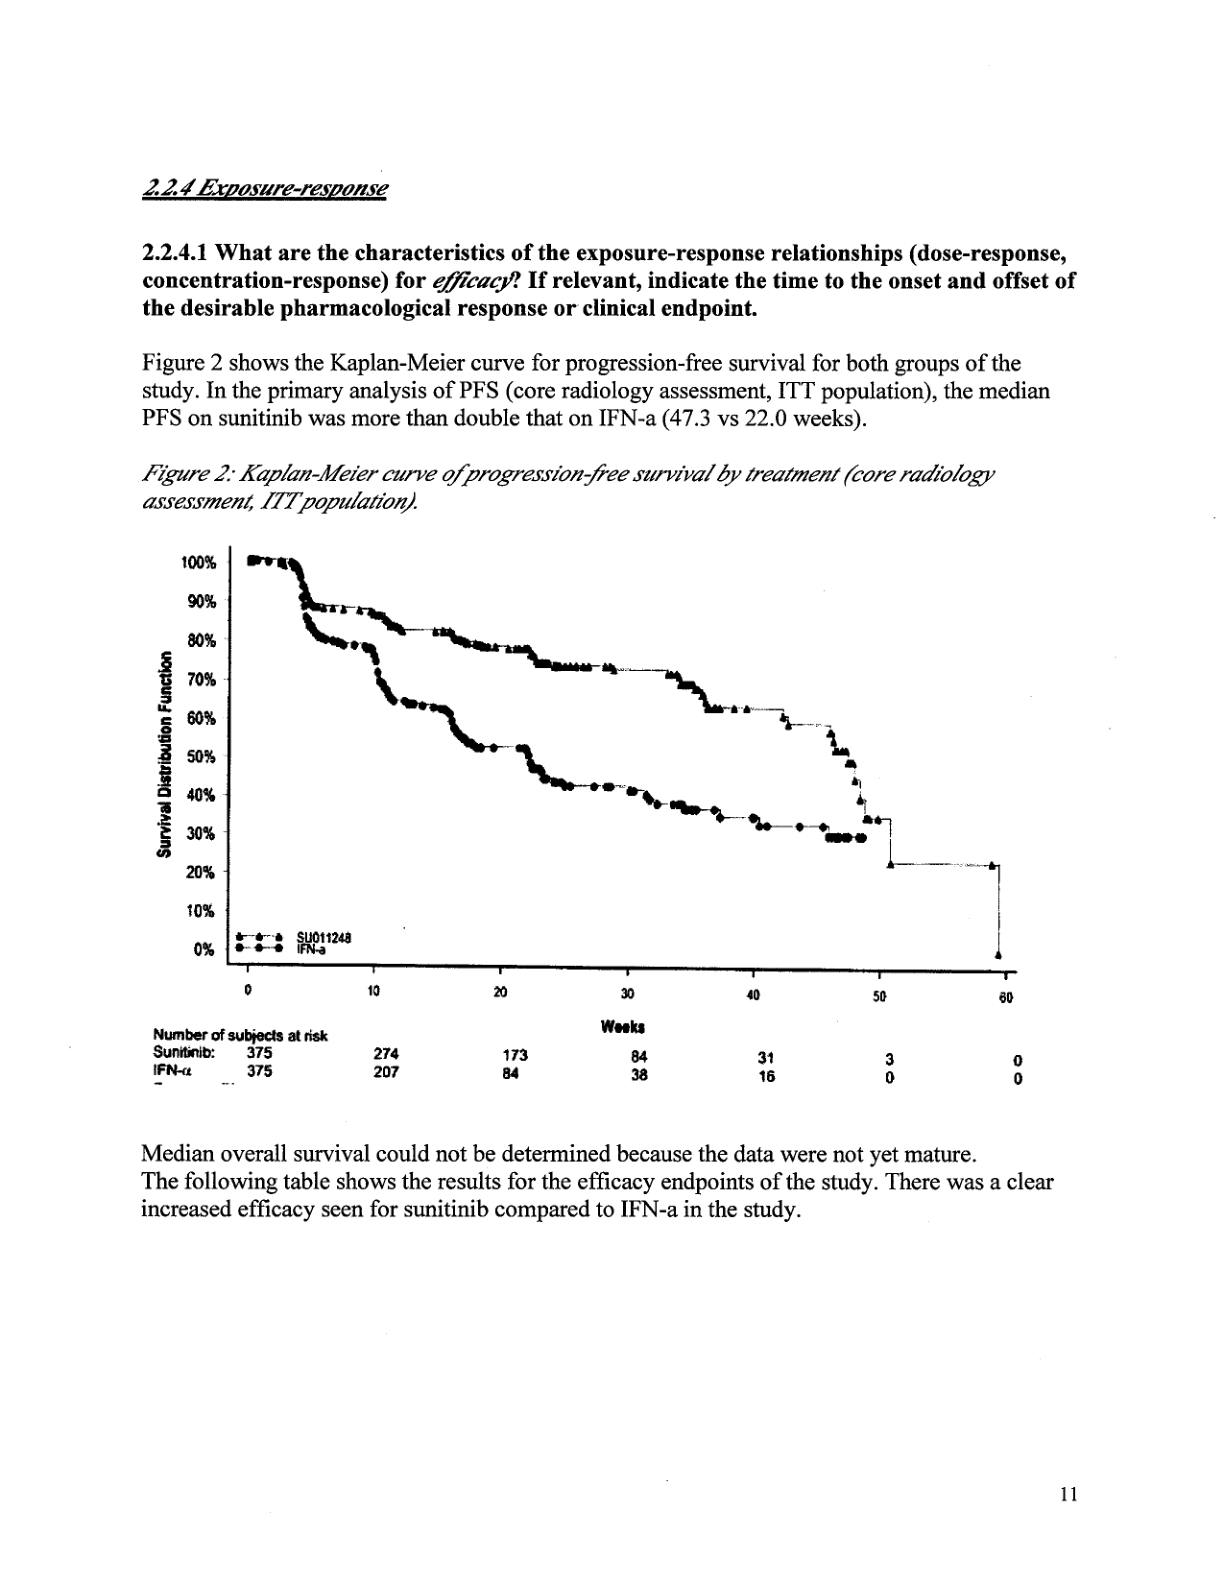nolines: (149, 1043, 1026, 1088)
